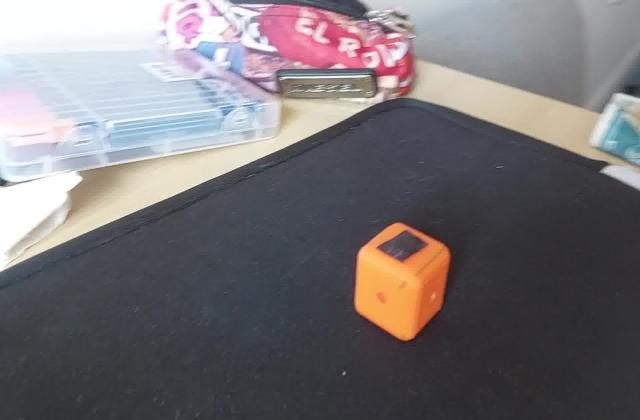cube: (349, 219, 454, 346)
